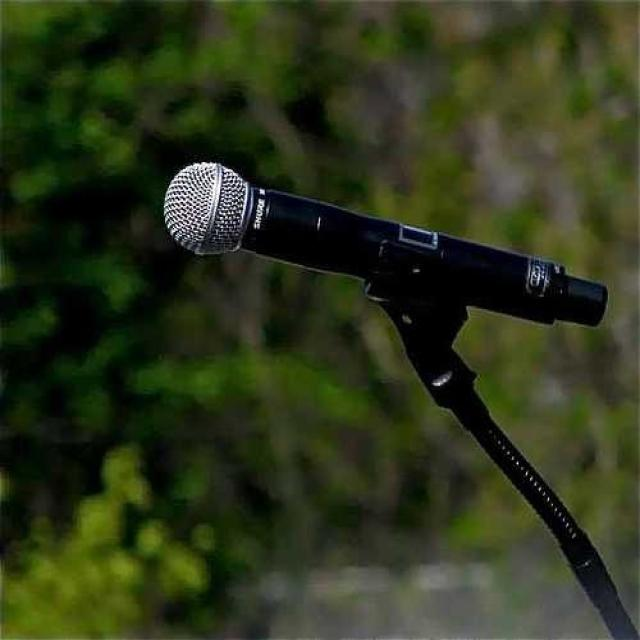microphone: (170, 162, 600, 330)
